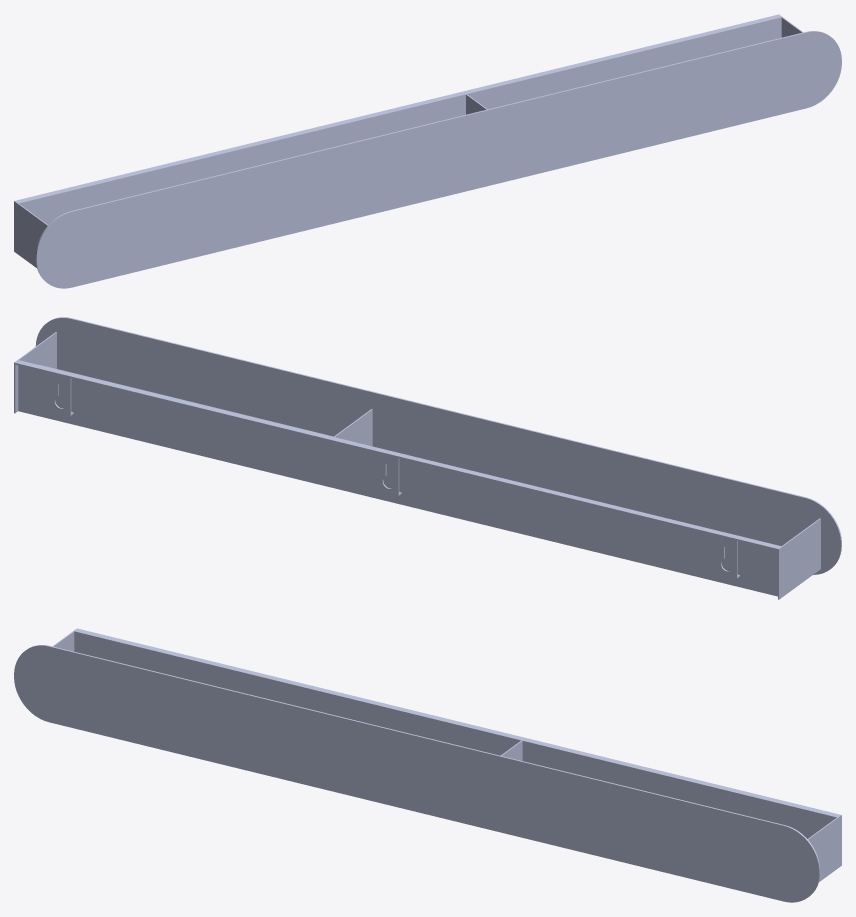
The model's file is round-double.fe9c8f3fb9.glb.
3 renders of one model, top to bottom at view 1: azimuth 30°, elevation 25°; view 2: azimuth 150°, elevation 25°; view 3: azimuth 330°, elevation 25°, orthographic.
Visible parts, largest first — view 1: NAUO1; view 2: NAUO1; view 3: NAUO1.
Boxes of the visible parts, <box> form: NAUO1: <box>14,14,841,288</box>; NAUO1: <box>14,317,841,599</box>; NAUO1: <box>14,628,841,902</box>.
Bounding box in the file's own units: 1 × 0.09 × 0.092.
